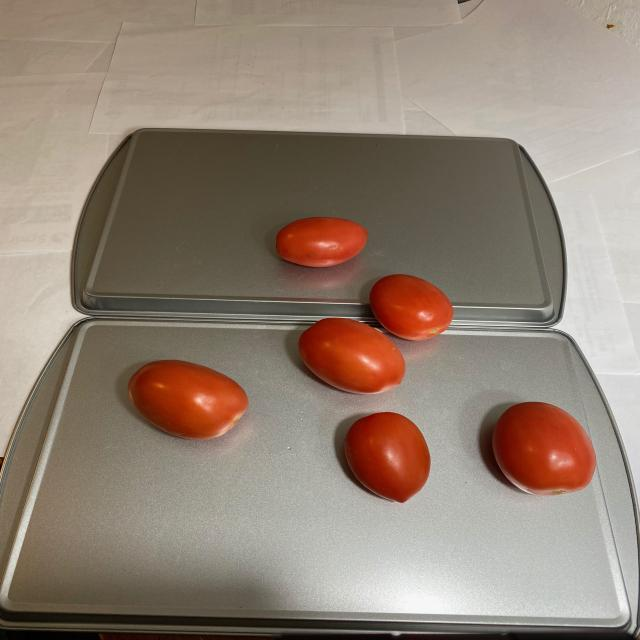tomato: (267, 215, 458, 507), (120, 356, 250, 444), (490, 398, 600, 502)
